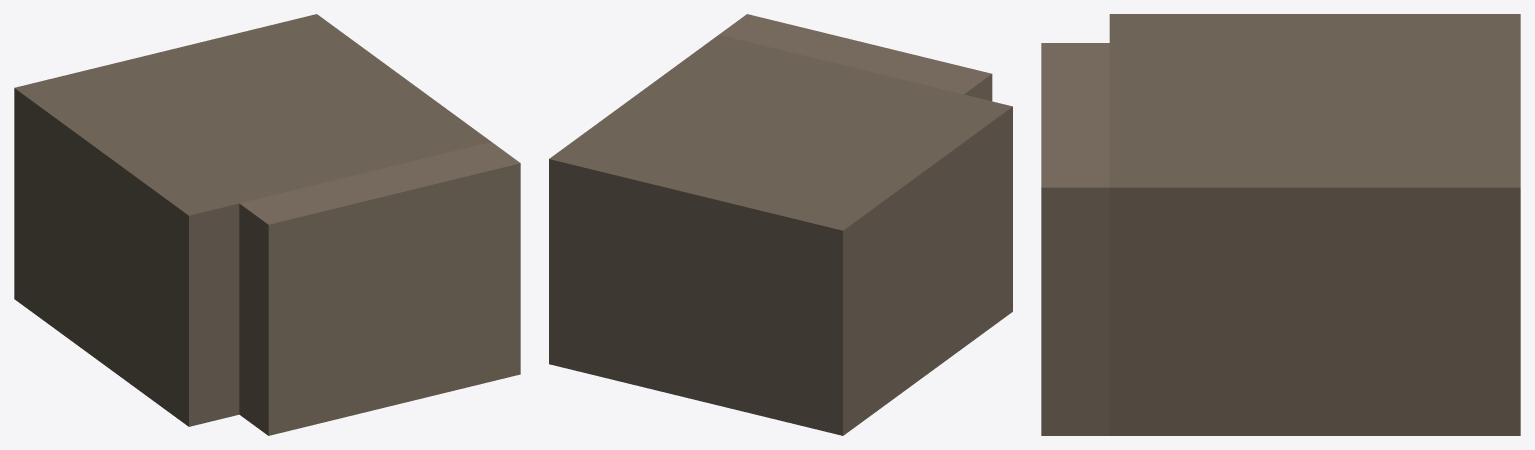
File: turba_03.glb
3 renders of one model, left to right at view 1: azimuth 30°, elevation 25°; view 2: azimuth 150°, elevation 25°; view 3: azimuth 270°, elevation 25°, orthographic. The views are drawn at different scales.
Parts seen in each view (by area): view 1: turba_03; view 2: turba_03; view 3: turba_03.
Boxes of the visible parts, x1=… form: turba_03: x1=14, y1=14, x2=520, y2=435; turba_03: x1=549, y1=14, x2=1012, y2=435; turba_03: x1=1041, y1=14, x2=1520, y2=435.
Bounding box in the file's own units: 0.6 × 0.4 × 0.7.
